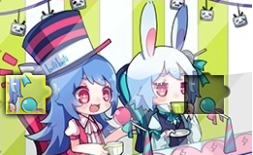gap: (184, 72, 229, 114)
